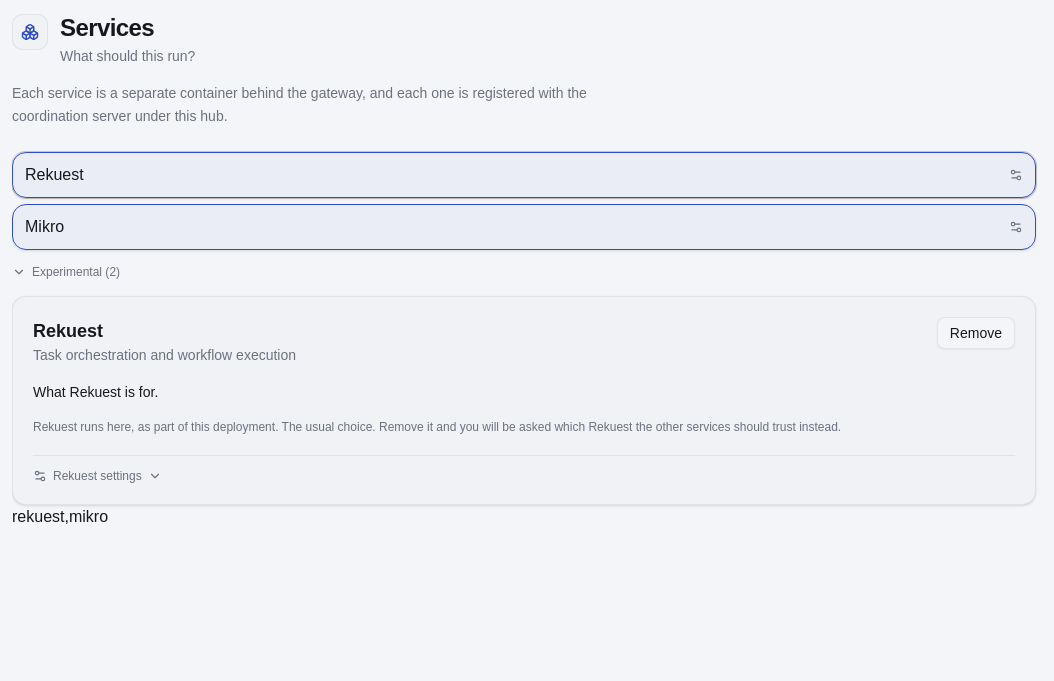
Test case: ServicesStep › keeps the experimental services out of sight until asked for
Expected: the text "Mikro" is shown, top-left (25, 214), bottom-right (64, 238)
Expected: the text "Bank" is not shown
Click the button "Experimental (2)". click: x=66, y=272
box: top-left (12, 264), bottom-right (120, 280)
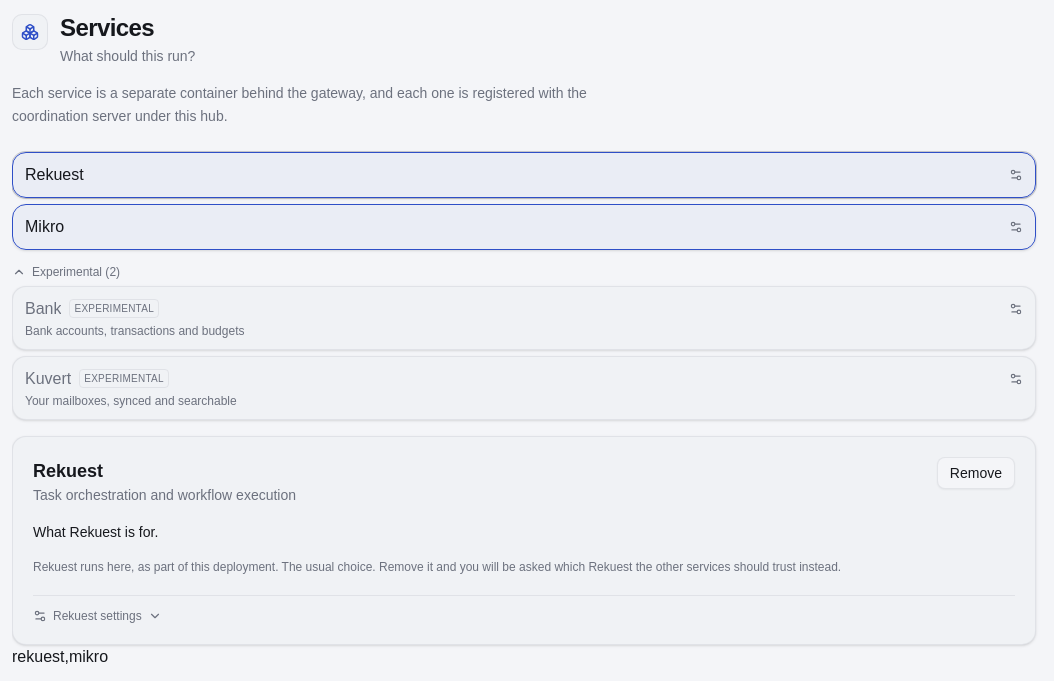
Result: the text "Bank" is shown at top-left (25, 296), bottom-right (62, 320)
Result: the text "Kuvert" is shown at top-left (25, 366), bottom-right (71, 390)
Result: the text "Bank accounts, transactions and budgets" is shown at top-left (25, 324), bottom-right (244, 338)
